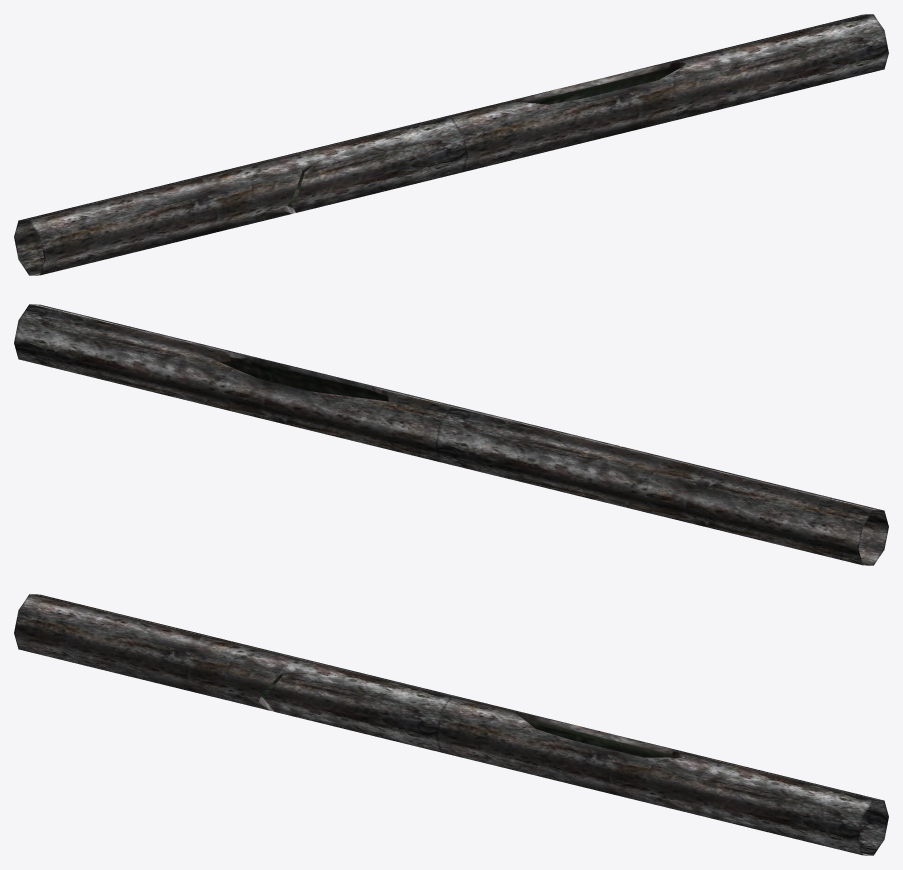
File: straight_grey_slum_4m.fbx
3 renders of one model, top to bottom at view 1: azimuth 30°, elevation 25°; view 2: azimuth 150°, elevation 25°; view 3: azimuth 330°, elevation 25°, orthographic.
Visible parts, largest first — view 1: mesh_0; view 2: mesh_0; view 3: mesh_0.
Boxes of the visible parts, x1,y1,x2,y2 form: mesh_0: [14, 14, 888, 275]; mesh_0: [14, 304, 888, 565]; mesh_0: [14, 594, 888, 855].
Size of the model in its own units: 400 by 25 by 25.
Materials: 1 (1 with a texture image).
